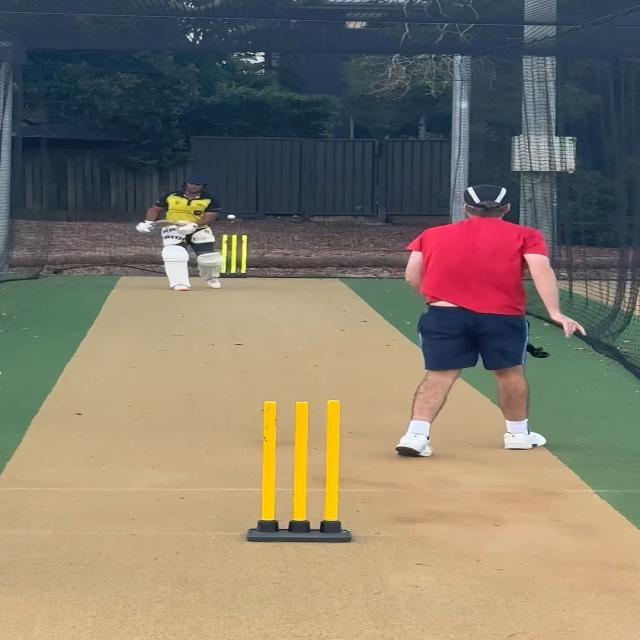stump: (246, 398, 348, 543), (219, 234, 249, 278)
